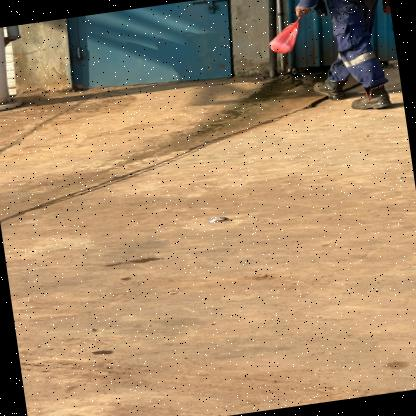bota: (342, 79, 393, 118), (303, 68, 352, 104)
